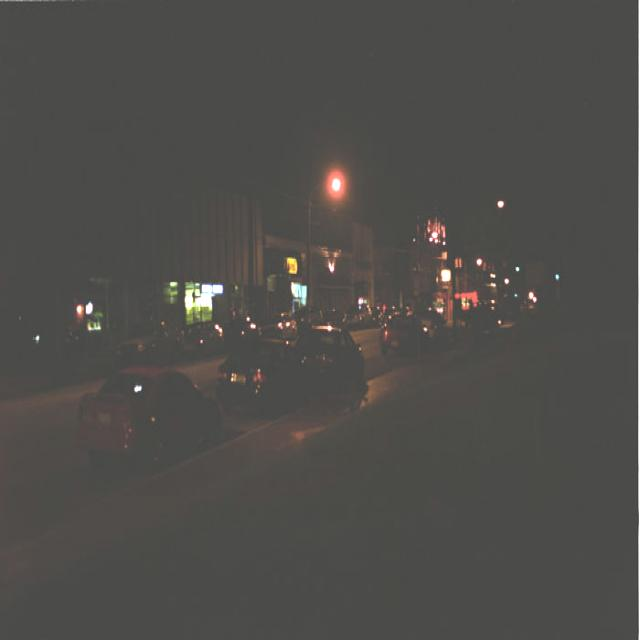Car: (74, 363, 223, 478), (218, 340, 313, 414), (376, 316, 419, 354)
